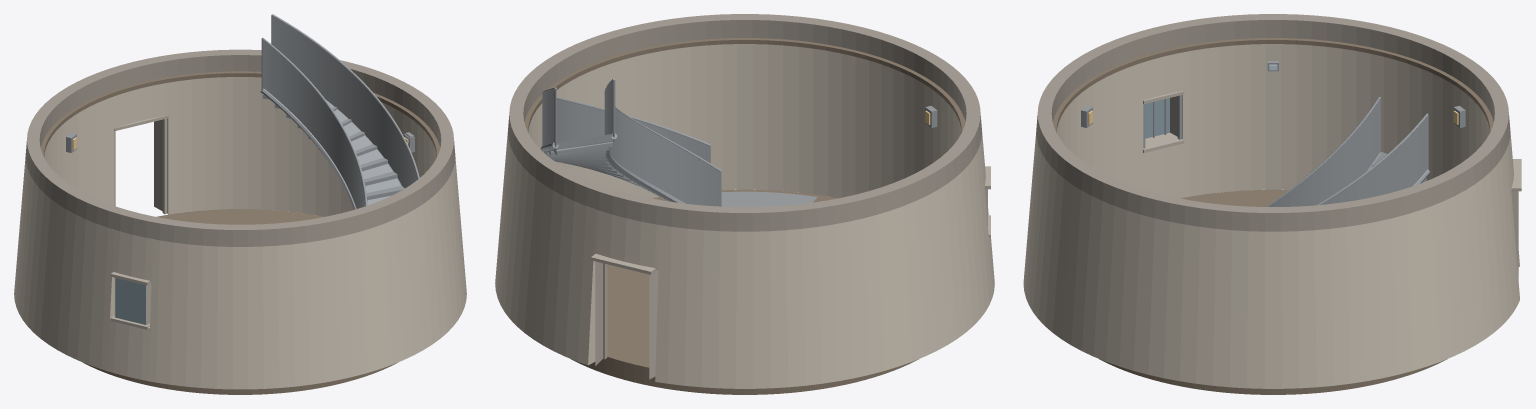
Rendered from SM_Shell_F1.fbx.
3 renders of one model, left to right at view 1: azimuth 30°, elevation 25°; view 2: azimuth 150°, elevation 25°; view 3: azimuth 270°, elevation 25°, orthographic. The views are drawn at different scales.
Visible parts, largest first — view 1: SM_Safety_F1_F2_Outer, SM_Safety_F1_F2_Inner, SM_Floor_F1, SM_Wall_F1_7_0, SM_Wall_F1_5_0, SM_Wall_F1_9_0, SM_Wall_F1_6_0, SM_Wall_F1_8_0, SM_Wall_F1_10_0, SM_Wall_F1_4_0, SM_Wall_F1_11_0, SM_Wall_F1_3_0 (+63 smaller); view 2: SM_Floor_F1, SM_Safety_F1_F2_Inner, SM_Trim_F1_Ceiling, SM_Safety_F1_F2_Outer, SM_Wall_F1_39_0, SM_Wall_F1_38_0, SM_Wall_F1_40_0, SM_Wall_F1_37_0, SM_Wall_F1_41_0, SM_Wall_F1_36_0, SM_Wall_F1_42_0, SM_Wall_F1_35_0 (+69 smaller); view 3: SM_Safety_F1_F2_Inner, SM_Trim_F1_Ceiling, SM_Safety_F1_F2_Outer, SM_Floor_F1, SM_Wall_F1_70_0, SM_Wall_F1_73_0, SM_Wall_F1_69_0, SM_Wall_F1_71_0, SM_Wall_F1_72_0, SM_Wall_F1_68_0, SM_Wall_F1_74_0, SM_Wall_F1_75_0 (+69 smaller).
Part boxes in pixels (x1,y1,x2,y2): SM_Safety_F1_F2_Outer: [272, 16, 417, 188]; SM_Safety_F1_F2_Inner: [262, 39, 365, 208]; SM_Floor_F1: [82, 209, 398, 394]; SM_Wall_F1_7_0: [232, 247, 248, 389]; SM_Wall_F1_5_0: [263, 245, 279, 388]; SM_Wall_F1_9_0: [201, 245, 217, 388]; SM_Wall_F1_6_0: [248, 246, 263, 389]; SM_Wall_F1_8_0: [217, 246, 232, 389]; SM_Wall_F1_10_0: [185, 244, 202, 387]; SM_Wall_F1_4_0: [278, 244, 295, 387]; SM_Wall_F1_11_0: [170, 242, 188, 386]; SM_Wall_F1_3_0: [292, 242, 310, 386]; SM_Floor_F1: [571, 189, 918, 394]; SM_Safety_F1_F2_Inner: [604, 80, 720, 206]; SM_Trim_F1_Ceiling: [524, 38, 965, 132]; SM_Safety_F1_F2_Outer: [542, 89, 710, 162]; SM_Wall_F1_39_0: [736, 231, 753, 388]; SM_Wall_F1_38_0: [753, 231, 770, 388]; SM_Wall_F1_40_0: [719, 231, 736, 388]; SM_Wall_F1_37_0: [769, 230, 788, 388]; SM_Wall_F1_41_0: [701, 230, 720, 388]; SM_Wall_F1_36_0: [786, 229, 805, 387]; SM_Wall_F1_42_0: [684, 229, 703, 387]; SM_Wall_F1_35_0: [802, 227, 822, 385]; SM_Safety_F1_F2_Inner: [1269, 98, 1380, 206]; SM_Trim_F1_Ceiling: [1053, 38, 1493, 132]; SM_Safety_F1_F2_Outer: [1321, 115, 1428, 204]; SM_Floor_F1: [1099, 189, 1447, 394]; SM_Wall_F1_70_0: [1281, 231, 1299, 388]; SM_Wall_F1_73_0: [1230, 230, 1248, 388]; SM_Wall_F1_69_0: [1298, 230, 1316, 388]; SM_Wall_F1_71_0: [1264, 231, 1281, 388]; SM_Wall_F1_72_0: [1247, 231, 1264, 388]; SM_Wall_F1_68_0: [1314, 229, 1333, 387]; SM_Wall_F1_74_0: [1213, 229, 1231, 387]; SM_Wall_F1_75_0: [1196, 227, 1215, 385].
Size of what is drawn, in the model's own units: 879 by 472 by 877.
